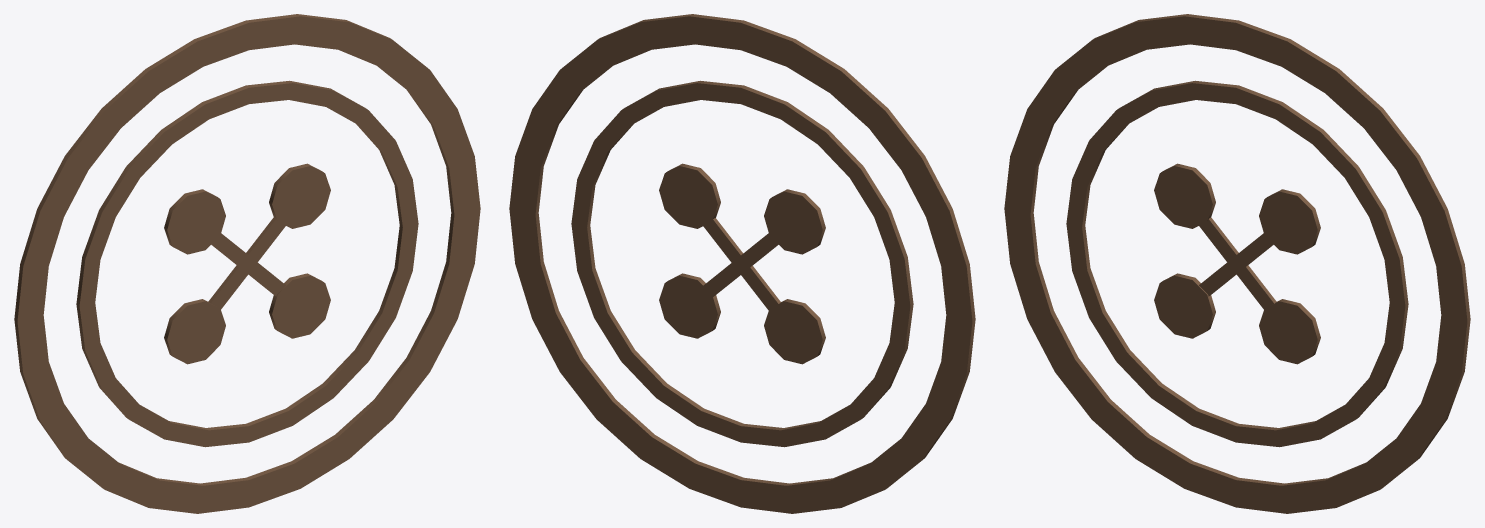
The model's file is sign_icon_button.glb.
The picture shows the model from 3 angles, left to right: view 1: azimuth 30°, elevation 25°; view 2: azimuth 150°, elevation 25°; view 3: azimuth 330°, elevation 25°; orthographic projection.
Visible parts, largest first — view 1: sign_icon_button; view 2: sign_icon_button; view 3: sign_icon_button.
Boxes of the visible parts, bbox=[...] form: sign_icon_button: bbox=[14, 14, 480, 513]; sign_icon_button: bbox=[509, 14, 975, 513]; sign_icon_button: bbox=[1004, 14, 1470, 513].
Size of the model in its own units: 0.212 by 0.212 by 0.0025.
